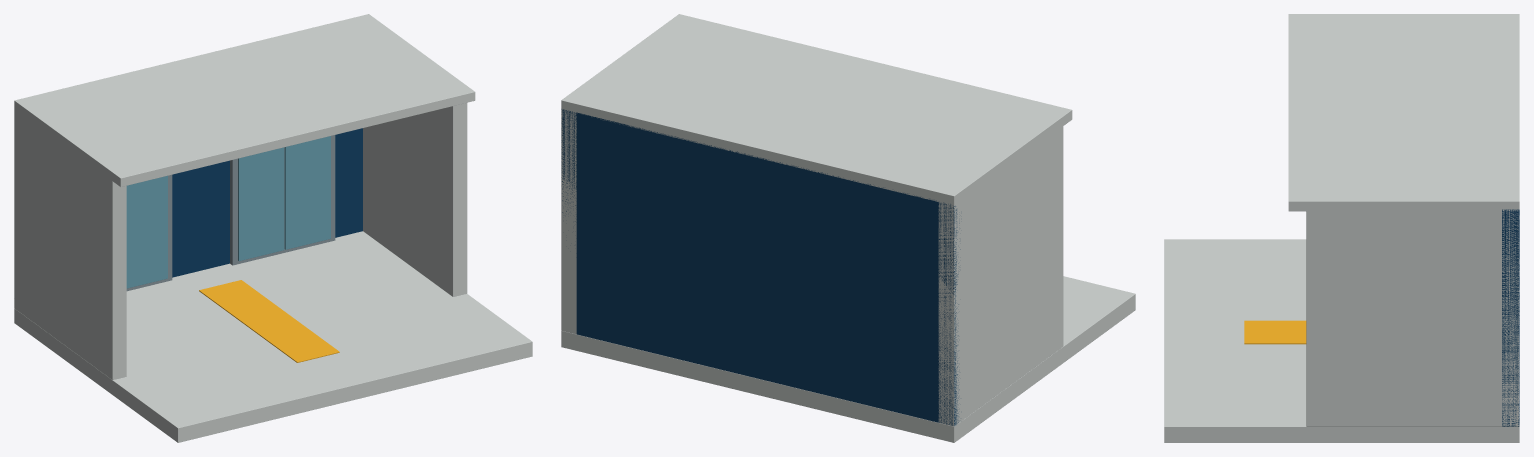
The picture shows the model from 3 angles, left to right: view 1: azimuth 30°, elevation 25°; view 2: azimuth 150°, elevation 25°; view 3: azimuth 270°, elevation 25°; orthographic projection. The views are drawn at different scales.
Parts seen in each view (by area): view 1: FLOOR, CEILING, CORE_Side.001, CORE_Side, CORE_Back, LIFT_Leaf.002, LIFT_Leaf.003, LIFT_Leaf.001, CIRCULATION_Tactile, LIFT_Frame.001, LIFT_Frame; view 2: CORE_Back, CEILING, CORE_Side.001, FLOOR, CORE_Side; view 3: CORE_Side, CEILING, FLOOR, CORE_Back, CIRCULATION_Tactile.
Boxes of the visible parts, x1,y1,x2,y2 form: FLOOR: [14, 231, 532, 442]; CEILING: [14, 14, 475, 186]; CORE_Side.001: [14, 108, 126, 379]; CORE_Side: [363, 103, 467, 296]; CORE_Back: [172, 128, 362, 277]; LIFT_Leaf.002: [238, 147, 284, 261]; LIFT_Leaf.003: [284, 136, 330, 249]; LIFT_Leaf.001: [126, 175, 167, 288]; CIRCULATION_Tactile: [199, 280, 339, 362]; LIFT_Frame.001: [230, 135, 335, 265]; LIFT_Frame: [126, 175, 172, 291]; CORE_Back: [561, 109, 960, 425]; CEILING: [561, 14, 1072, 205]; CORE_Side.001: [938, 125, 1063, 426]; FLOOR: [561, 276, 1135, 442]; CORE_Side: [561, 109, 576, 334]; CORE_Side: [1306, 209, 1519, 426]; CEILING: [1288, 14, 1519, 211]; FLOOR: [1164, 239, 1519, 442]; CORE_Back: [1502, 209, 1519, 426]; CIRCULATION_Tactile: [1244, 320, 1306, 344].
Bounding box in the file's own units: 5 × 3 × 4.
